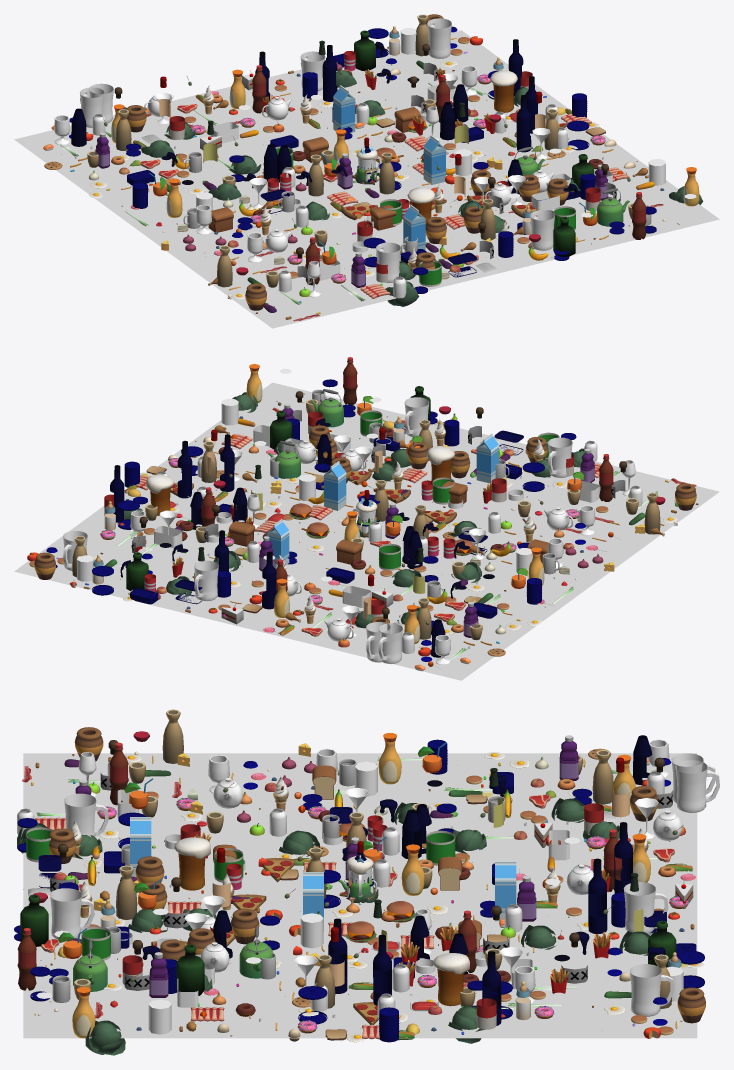
File: EverythingLibrary_Consumables_002.fbx
The picture shows the model from 3 angles, top to bottom: view 1: azimuth 30°, elevation 25°; view 2: azimuth 150°, elevation 25°; view 3: azimuth 270°, elevation 25°; orthographic projection. The views are drawn at different scales.
Parts seen in each view (by area): view 1: Plane, Plane|Milk|Dupli|121, Plane|transp.004|Dupli|935, Plane|base.018|Dupli|774, Plane|Milk|Dupli|254, Plane|transp.004|Dupli|42, Plane|Milk|Dupli|649, Plane|Kettle|Dupli|420, Plane|transp.004|Dupli|5, Plane|transp.005|Dupli|753, Plane|transp.005|Dupli|990, Plane|refl.006|Dupli|109 (+16 smaller); view 2: Plane, Plane|Milk|Dupli|121, Plane|transp.004|Dupli|641, Plane|Milk|Dupli|649, Plane|transp.004|Dupli|367, Plane|transp.004|Dupli|5, Plane|base.018|Dupli|774, Plane|transp.004|Dupli|42, Plane|base.018|Dupli|551, Plane|Kettle|Dupli|11, Plane|Milk|Dupli|254, Plane|Kettle|Dupli|420 (+14 smaller); view 3: Plane, Plane|transp.004|Dupli|935, Plane|transp.004|Dupli|42, Plane|transp.004|Dupli|607, Plane|base.018|Dupli|551, Plane|base.018|Dupli|774, Plane|transp.004|Dupli|5, Plane|transp.004|Dupli|641, Plane|refl.006|Dupli|891, Plane|transp.005|Dupli|589, Plane|alt1.001|Dupli|39, Plane|transp.005|Dupli|990 (+61 smaller).
Boxes of the visible parts, x1,y1,x2,y2 form: Plane: [14, 30, 719, 328]; Plane|Milk|Dupli|121: [423, 135, 445, 184]; Plane|transp.004|Dupli|935: [427, 18, 451, 58]; Plane|base.018|Dupli|774: [489, 70, 517, 112]; Plane|Milk|Dupli|254: [333, 85, 355, 133]; Plane|transp.004|Dupli|42: [530, 210, 554, 250]; Plane|Milk|Dupli|649: [403, 204, 425, 250]; Plane|Kettle|Dupli|420: [597, 188, 629, 226]; Plane|transp.004|Dupli|5: [376, 242, 400, 283]; Plane|transp.005|Dupli|753: [354, 30, 375, 70]; Plane|transp.005|Dupli|990: [553, 216, 575, 256]; Plane|refl.006|Dupli|109: [516, 95, 531, 152]; Plane: [14, 382, 719, 680]; Plane|Milk|Dupli|121: [324, 461, 346, 510]; Plane|transp.004|Dupli|641: [194, 560, 218, 601]; Plane|Milk|Dupli|649: [476, 433, 498, 483]; Plane|transp.004|Dupli|367: [378, 623, 402, 664]; Plane|transp.004|Dupli|5: [548, 437, 572, 478]; Plane|base.018|Dupli|774: [145, 474, 174, 515]; Plane|transp.004|Dupli|42: [404, 397, 429, 437]; Plane|base.018|Dupli|551: [426, 446, 455, 481]; Plane|Kettle|Dupli|11: [268, 441, 300, 478]; Plane|Milk|Dupli|254: [267, 519, 289, 567]; Plane|Kettle|Dupli|420: [311, 389, 343, 427]; Plane: [23, 753, 697, 1038]; Plane|transp.004|Dupli|935: [629, 964, 674, 1016]; Plane|transp.004|Dupli|42: [50, 888, 94, 941]; Plane|transp.004|Dupli|607: [675, 760, 719, 813]; Plane|base.018|Dupli|551: [174, 837, 210, 890]; Plane|base.018|Dupli|774: [433, 953, 469, 1006]; Plane|transp.004|Dupli|5: [64, 793, 108, 837]; Plane|transp.004|Dupli|641: [623, 882, 668, 933]; Plane|refl.006|Dupli|891: [588, 858, 607, 933]; Plane|transp.005|Dupli|589: [176, 944, 204, 995]; Plane|alt1.001|Dupli|39: [85, 1020, 125, 1055]; Plane|transp.005|Dupli|990: [20, 894, 48, 946].
Size of the model in its own units: 56944 by 8043 by 57524.
